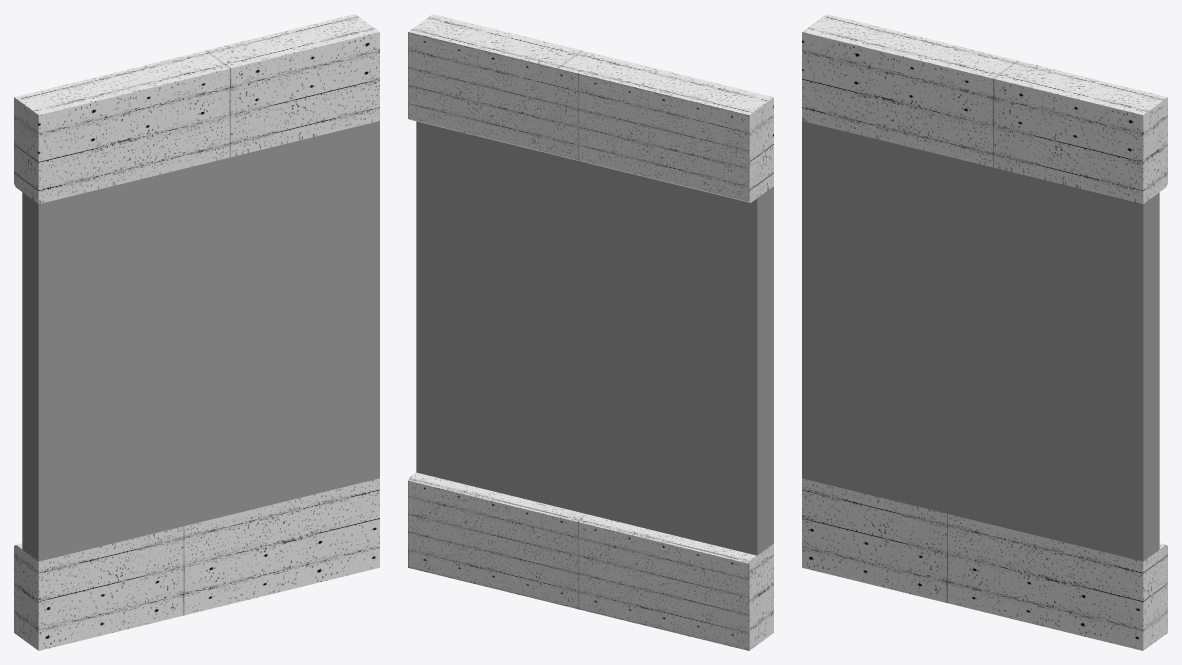
Rendered from Wall_Cardinal_Front_Dither_fix3.fbx.
3 renders of one model, left to right at view 1: azimuth 30°, elevation 25°; view 2: azimuth 150°, elevation 25°; view 3: azimuth 330°, elevation 25°, orthographic.
Visible parts, largest first — view 1: polySurface4486, polySurface4485; view 2: polySurface4486, polySurface4485; view 3: polySurface4486, polySurface4485.
Part boxes in pixels (x1,y1,x2,y2): polySurface4486: (22,121,379,561); polySurface4485: (14,14,379,650); polySurface4486: (416,121,773,555); polySurface4485: (408,14,773,650); polySurface4486: (802,121,1159,561); polySurface4485: (802,14,1167,650).
Size of the model in its own units: 2 by 3 by 0.25.
